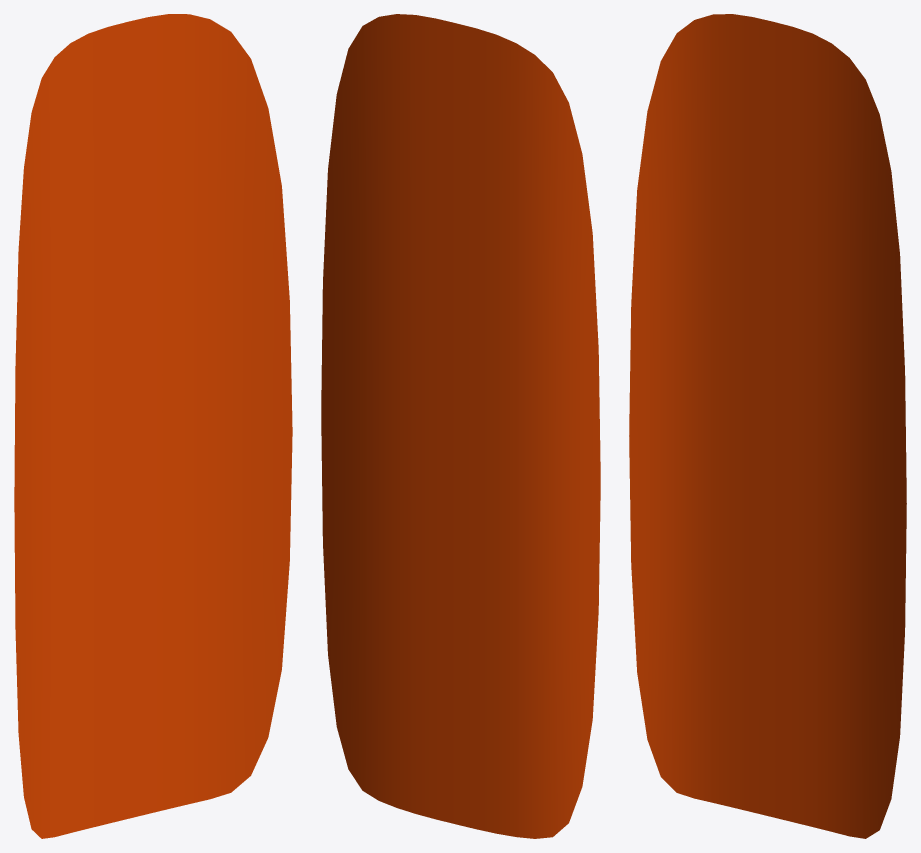
The model's file is confetti.glb.
3 views of the same model, side by side, from view 1: azimuth 30°, elevation 25°; view 2: azimuth 150°, elevation 25°; view 3: azimuth 330°, elevation 25° (orthographic).
Parts seen in each view (by area): view 1: Plane; view 2: Plane; view 3: Plane.
Boxes of the visible parts, x1,y1,x2,y2 form: Plane: (14, 14, 292, 838); Plane: (321, 14, 600, 838); Plane: (629, 14, 906, 838).
Size of the model in its own units: 0.3907 by 1.07 by 0.0369.
